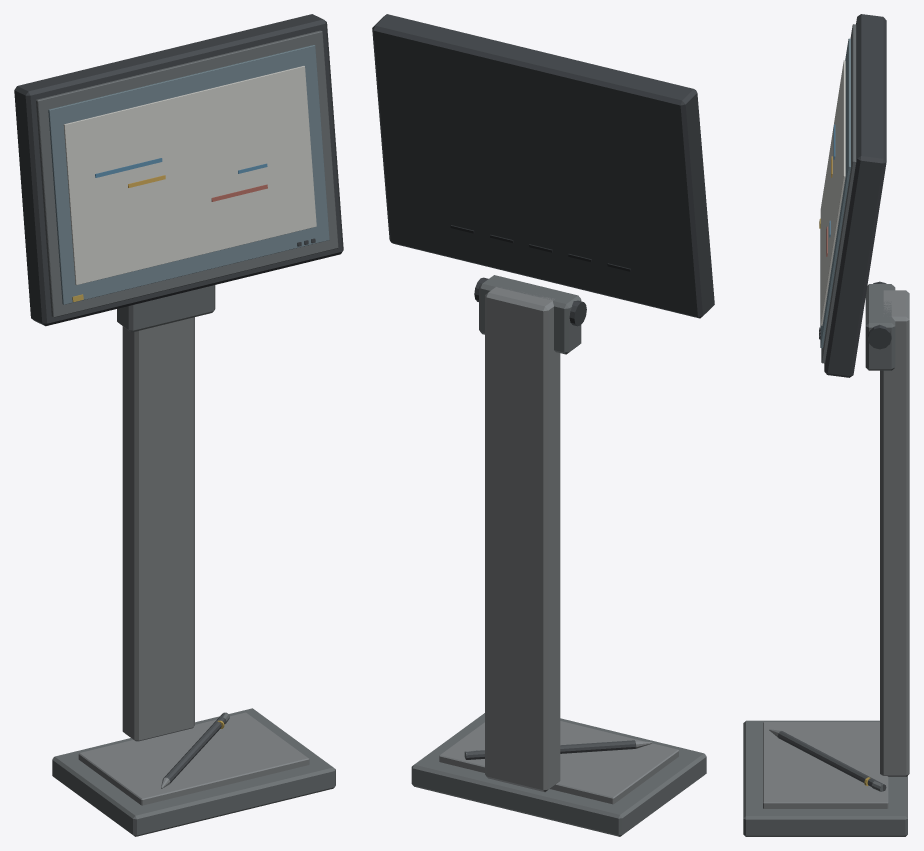
The model's file is 0-20261016-1900-ev017-r03-art-drawtablet.fbx.
The picture shows the model from 3 angles, left to right: view 1: azimuth 30°, elevation 25°; view 2: azimuth 150°, elevation 25°; view 3: azimuth 270°, elevation 25°; orthographic projection. The views are drawn at different scales.
Parts seen in each view (by area): view 1: SW_Art_DrawTablet; view 2: SW_Art_DrawTablet; view 3: SW_Art_DrawTablet.
Part boxes in pixels (bbox=[...]): SW_Art_DrawTablet: bbox=[14, 14, 343, 836]; SW_Art_DrawTablet: bbox=[372, 14, 714, 836]; SW_Art_DrawTablet: bbox=[743, 14, 909, 836].
Size of the model in its own units: 52 by 119 by 25.25.
